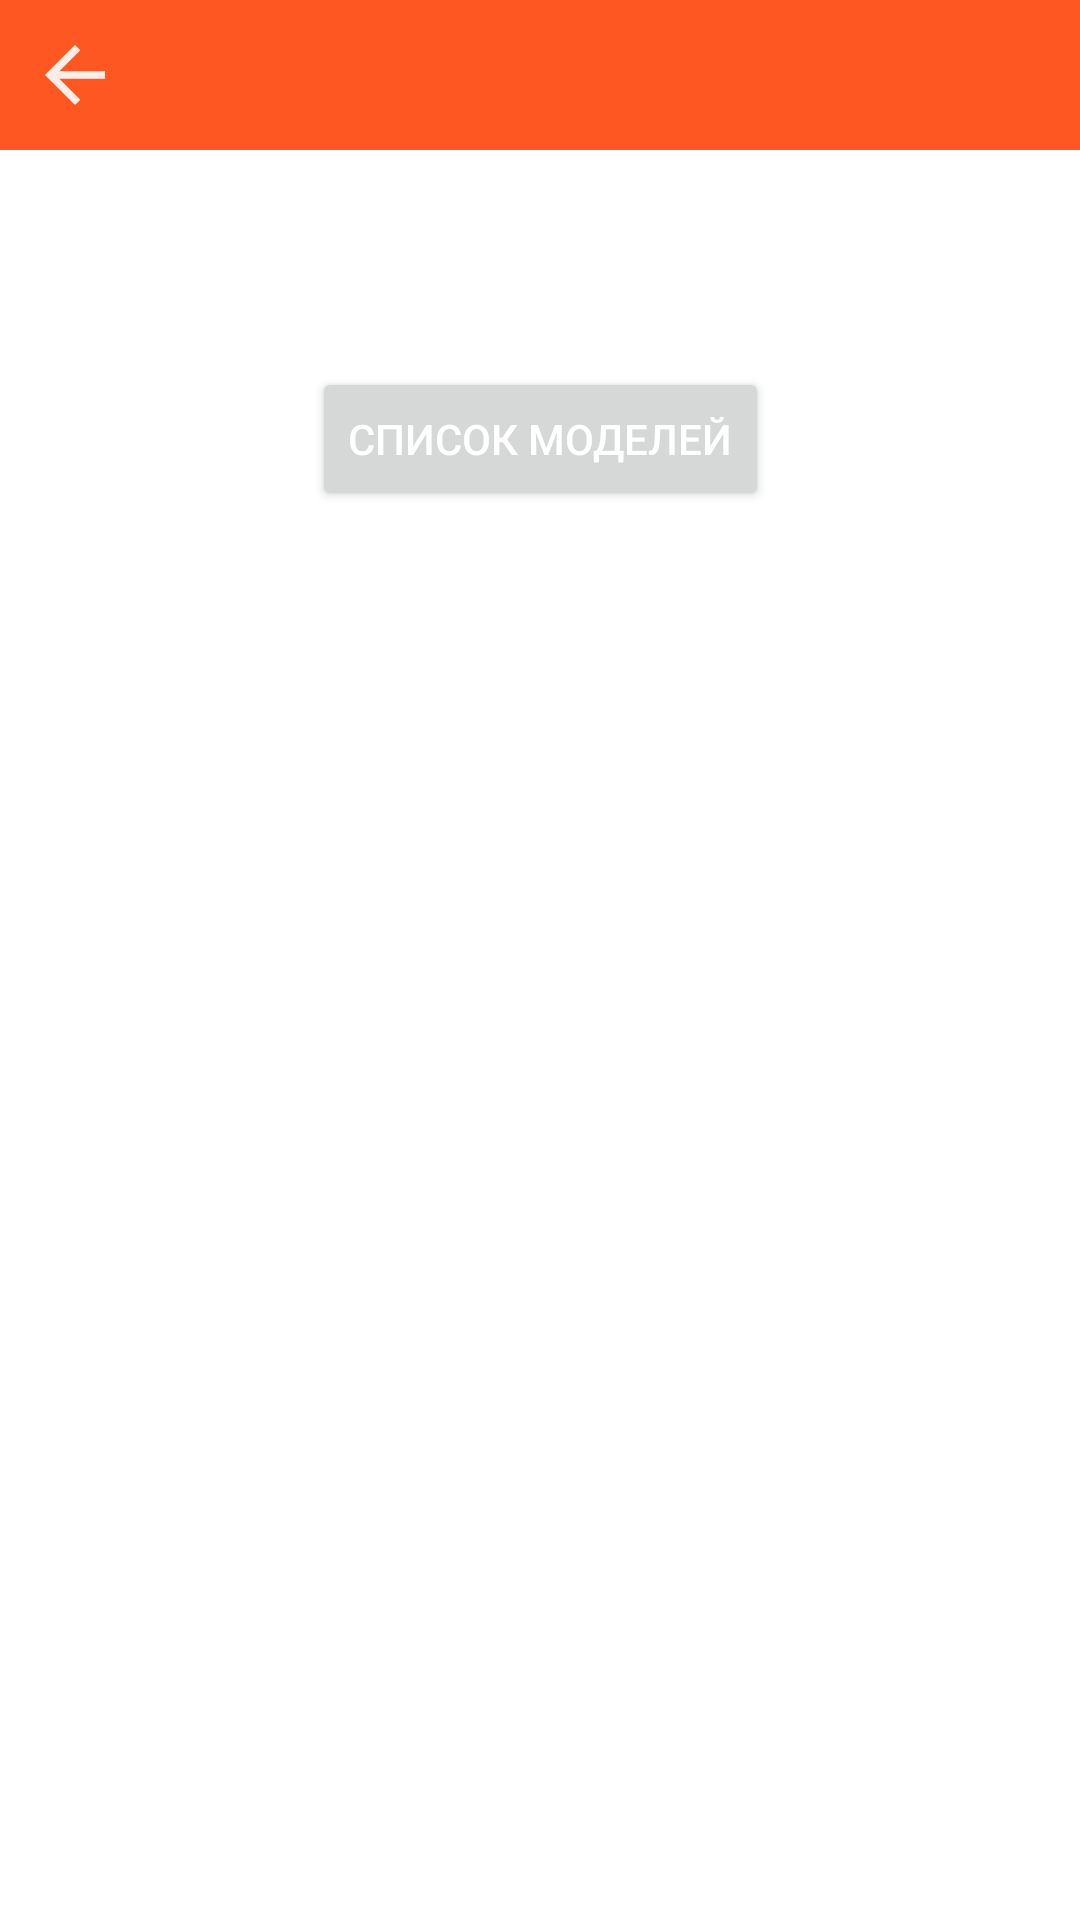

Named icons in this screenshot (1080*1920) and their bounding boxes, (x1, y1, x2, y2):
arrow back: (45, 45, 105, 105)
